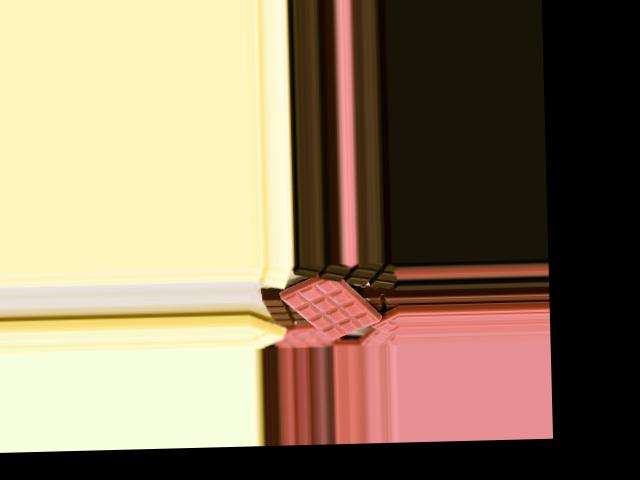chocolate: (280, 262, 382, 344)
